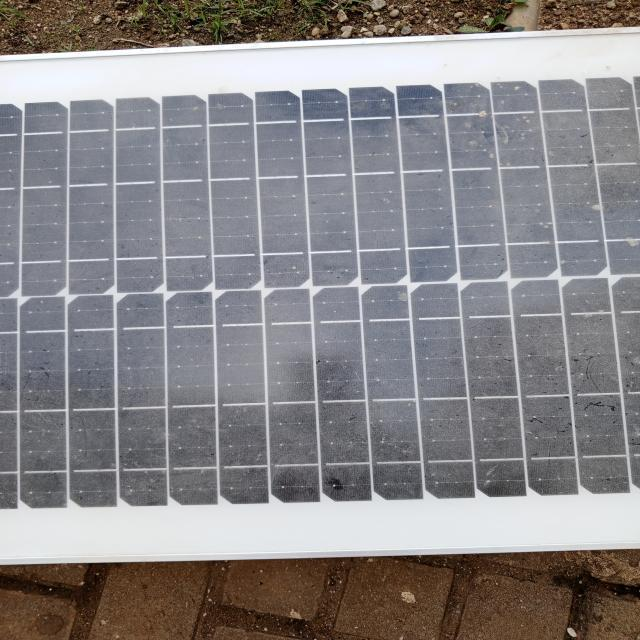Surface Contaminant: (31, 77, 635, 503)
